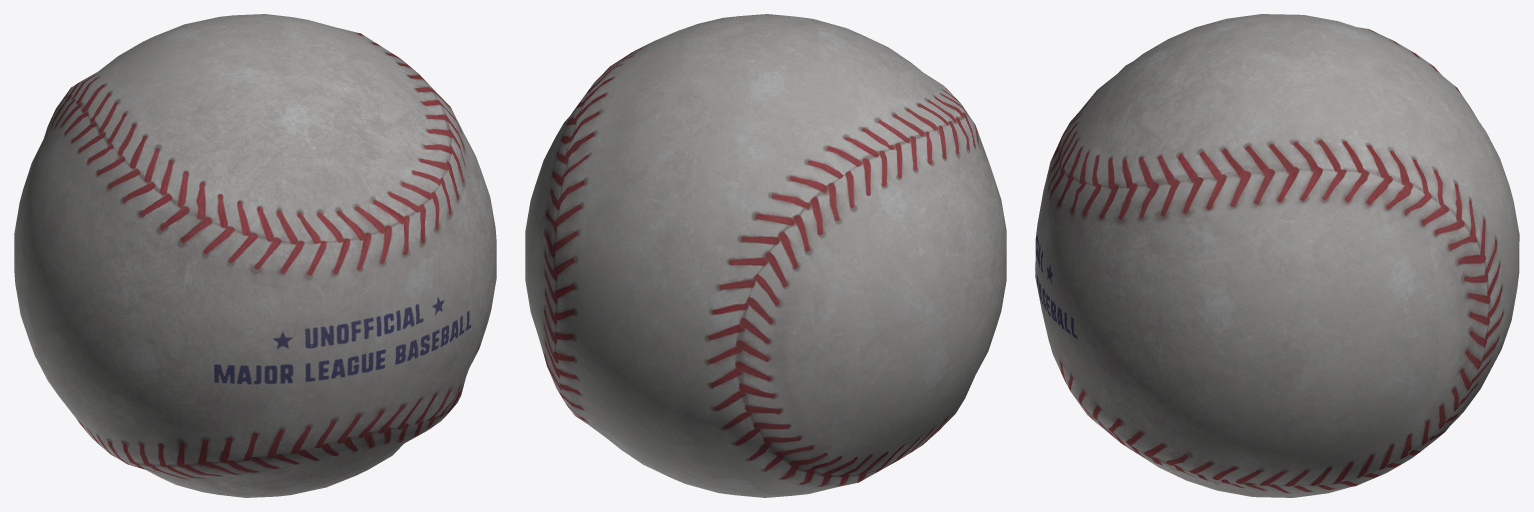
The model's file is Baseball.glb.
3 renders of one model, left to right at view 1: azimuth 30°, elevation 25°; view 2: azimuth 150°, elevation 25°; view 3: azimuth 270°, elevation 25°, orthographic.
Parts seen in each view (by area): view 1: BaseBall; view 2: BaseBall; view 3: BaseBall.
Boxes of the visible parts, x1,y1,x2,y2 form: BaseBall: (14, 14, 496, 497); BaseBall: (525, 14, 1006, 497); BaseBall: (1035, 14, 1519, 497).
Size of the model in its own units: 1.99 by 1.99 by 1.99.
Materials: 1 (1 with a texture image).
